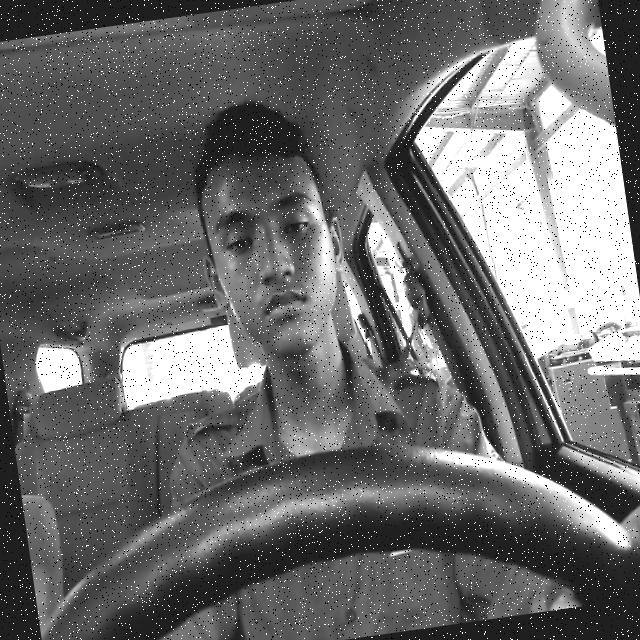focused: (188, 142, 358, 366)
